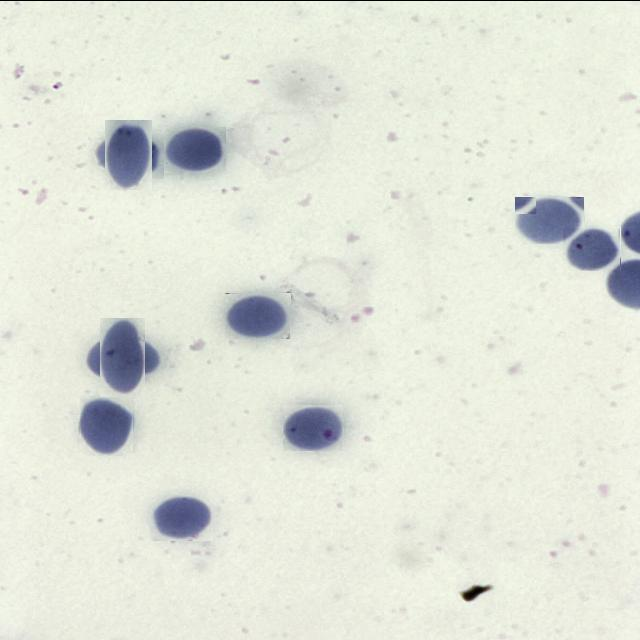red blood cell: (92, 326, 154, 388), (100, 124, 158, 184), (78, 396, 136, 454), (515, 195, 585, 243), (225, 292, 291, 338), (162, 126, 226, 172), (150, 494, 213, 540), (563, 226, 621, 270)
ring: (283, 403, 344, 450)
